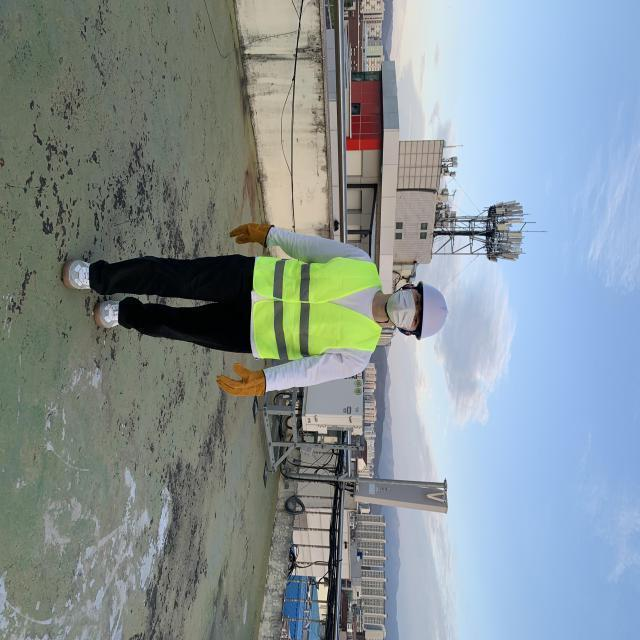gloves: (210, 363, 272, 405), (226, 214, 275, 256)
helmet: (412, 280, 456, 342)
safety_vest: (248, 258, 382, 366)
